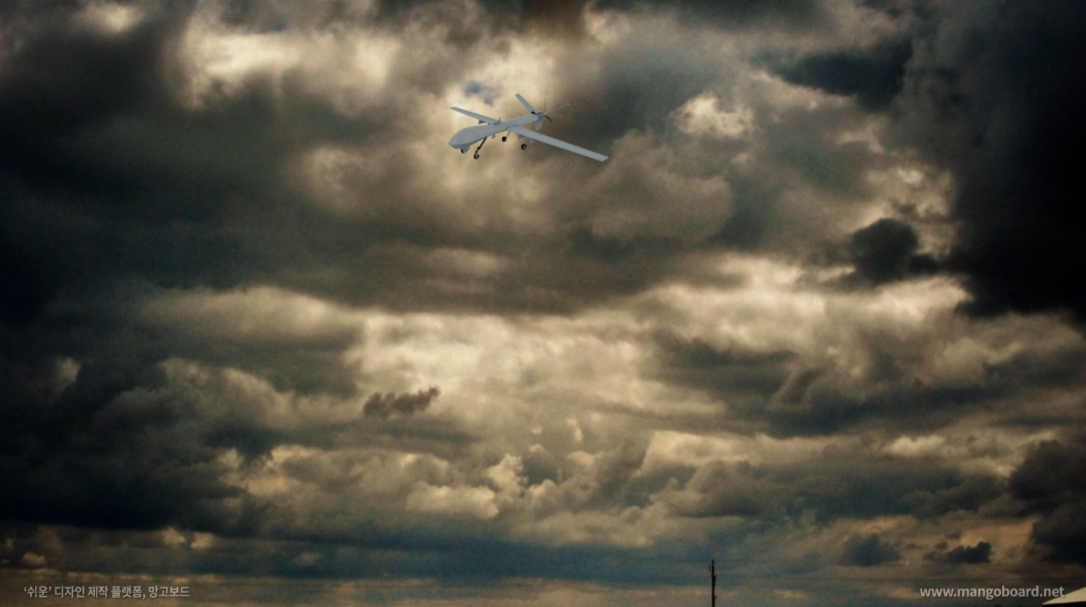military drone: (447, 92, 609, 162)
